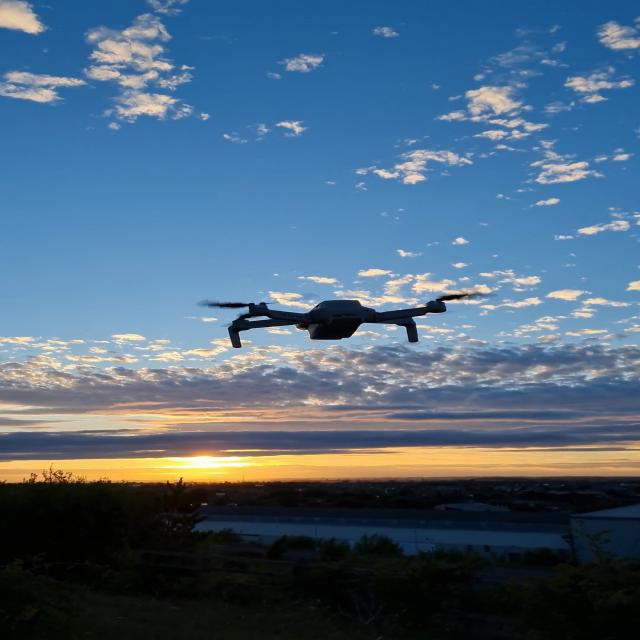Drone: (200, 283, 468, 377)
